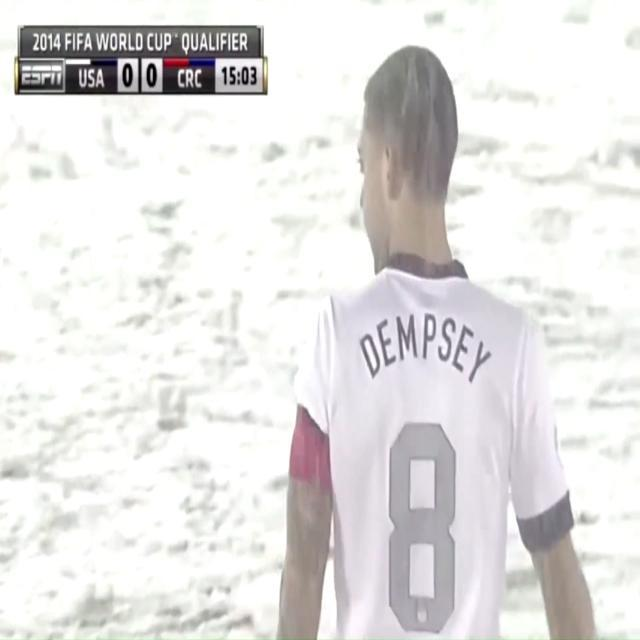player: (255, 1, 603, 640)
